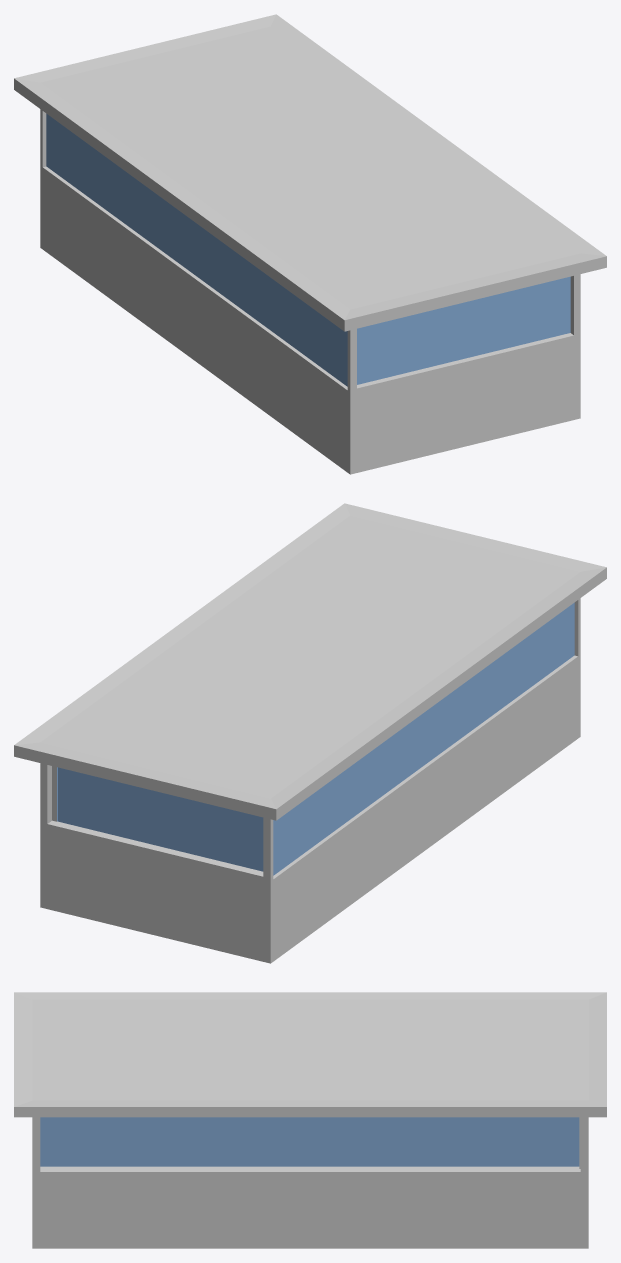
The model's file is terminal.glb.
3 views of the same model, one above another, from view 1: azimuth 30°, elevation 25°; view 2: azimuth 150°, elevation 25°; view 3: azimuth 270°, elevation 25° (orthographic). The views are drawn at different scales.
Parts seen in each view (by area): view 1: terminal; view 2: terminal; view 3: terminal.
Boxes of the visible parts, box(x1,y1,x2,y2) form: terminal: box(14, 14, 606, 474); terminal: box(14, 503, 606, 963); terminal: box(14, 992, 606, 1248).
Bounding box in the file's own units: 45.54 × 27.48 × 99.34.
